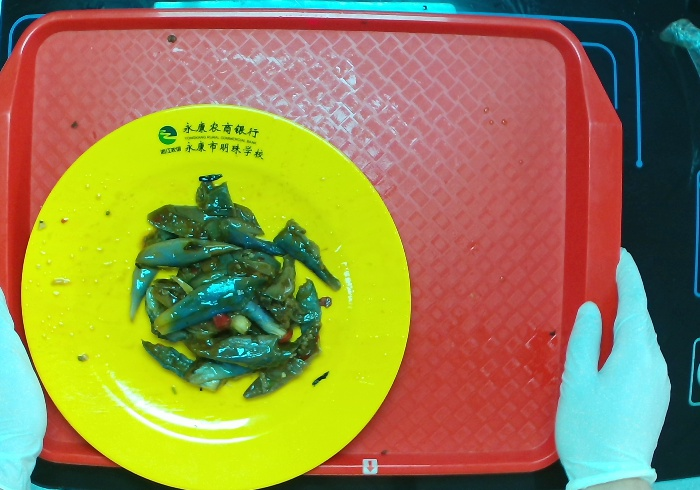YKMZ-Huang_Se_Mian_Pan: (19, 102, 413, 489)
